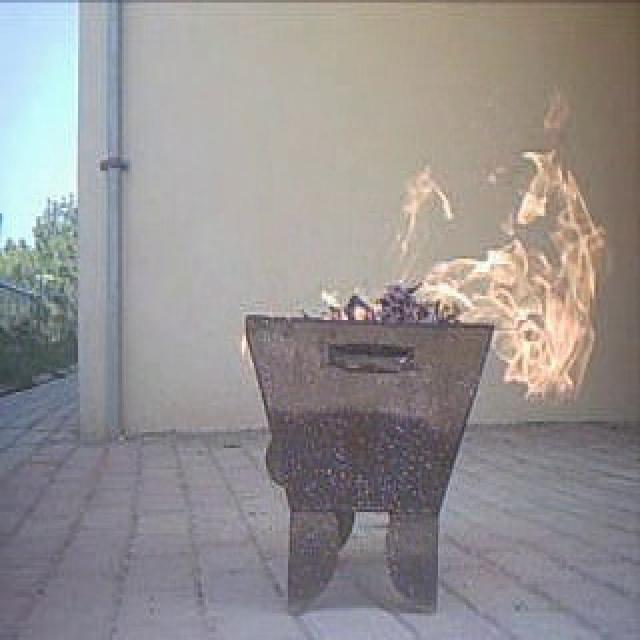Fire: (406, 166, 604, 410)
